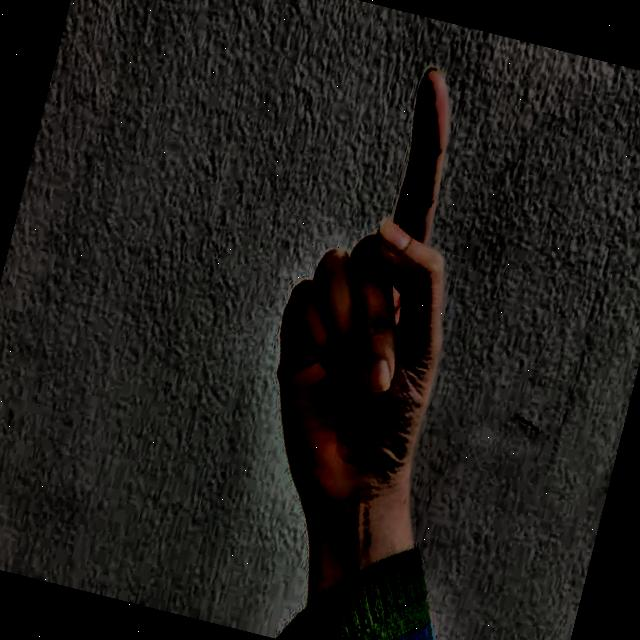U: (199, 20, 536, 552)
